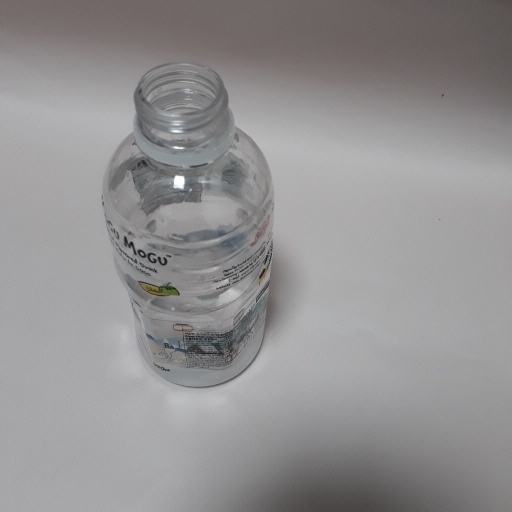Plastic_0: (100, 62, 274, 389)
